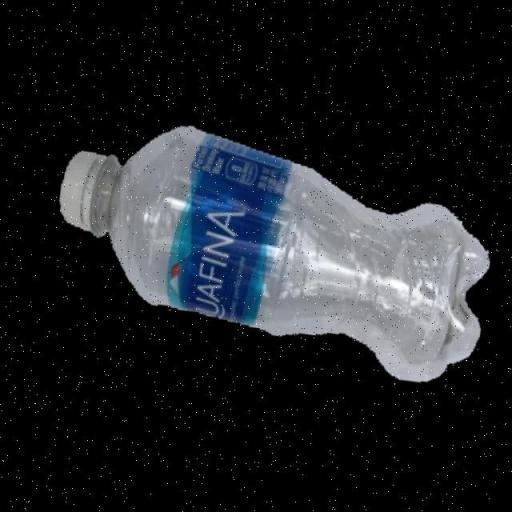plastic: (34, 104, 511, 407)
